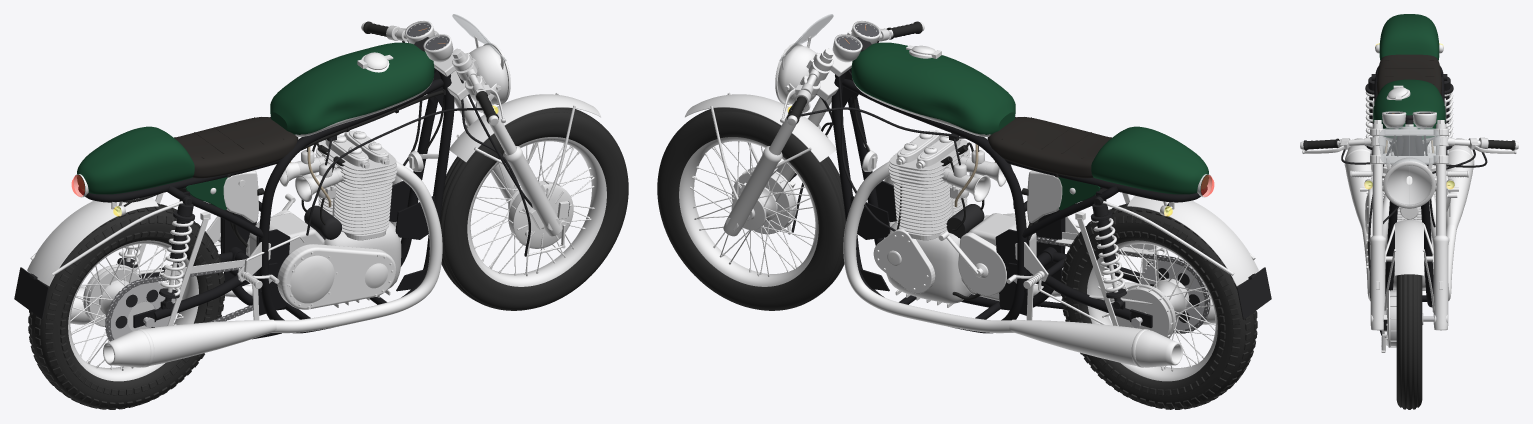
File: bike_cafe_racer.glb
3 views of the same model, side by side, from view 1: azimuth 30°, elevation 25°; view 2: azimuth 150°, elevation 25°; view 3: azimuth 270°, elevation 25° (orthographic). The views are drawn at different scales.
Parts seen in each view (by area): view 1: wheels__front_wheel__tyre, wheels__rear_wheel__tyre, frame_body__frame__tubes, frame_body__fuel_tank, transmission__primary_chaincase, frame_body__tail_cowl, powertrain__exhaust__megaphones, frame_body__seat, powertrain__exhaust__headers, wheels__front_wheel__rim, frame_body__rear_mudguard, powertrain__engine__cylinder_fins (+35 smaller); view 2: wheels__front_wheel__tyre, wheels__rear_wheel__tyre, frame_body__frame__tubes, frame_body__fuel_tank, frame_body__tail_cowl, powertrain__exhaust__megaphones, frame_body__seat, powertrain__exhaust__headers, wheels__front_wheel__rim, frame_body__rear_mudguard, powertrain__engine__cylinder_fins, powertrain__engine__timing_cover (+33 smaller); view 3: wheels__front_wheel__tyre, powertrain__exhaust__megaphones, frame_body__tail_cowl, frame_body__flyscreen, frame_body__fuel_tank, frame_body__frame__tubes, frame_body__seat, frame_body__front_mudguard, chassis__front_fork__right_slider, chassis__front_fork__left_slider, electrical__headlight__reflector, electrical__headlight__lens (+27 smaller).
Boxes of the visible parts, x1,y1,x2,y2 form: wheels__front_wheel__tyre: (440, 107, 628, 310); wheels__rear_wheel__tyre: (28, 203, 224, 409); frame_body__frame__tubes: (78, 68, 454, 333); frame_body__fuel_tank: (270, 42, 434, 136); transmission__primary_chaincase: (277, 244, 396, 309); frame_body__tail_cowl: (77, 126, 194, 194); powertrain__exhaust__megaphones: (70, 282, 276, 367); frame_body__seat: (174, 117, 298, 178); powertrain__exhaust__headers: (225, 161, 442, 333); wheels__front_wheel__rim: (467, 137, 606, 286); frame_body__rear_mudguard: (27, 197, 158, 286); powertrain__engine__cylinder_fins: (318, 172, 392, 234); wheels__front_wheel__tyre: (657, 107, 845, 310); wheels__rear_wheel__tyre: (1061, 203, 1257, 409); frame_body__frame__tubes: (831, 68, 1207, 333); frame_body__fuel_tank: (851, 42, 1015, 136); frame_body__tail_cowl: (1091, 126, 1208, 194); powertrain__exhaust__megaphones: (1009, 282, 1215, 367); frame_body__seat: (987, 117, 1111, 178); powertrain__exhaust__headers: (843, 161, 1061, 333); wheels__front_wheel__rim: (679, 137, 818, 286); frame_body__rear_mudguard: (1127, 195, 1258, 286); powertrain__engine__cylinder_fins: (893, 172, 967, 234); powertrain__engine__timing_cover: (873, 228, 935, 293); wheels__front_wheel__tyre: (1396, 274, 1422, 409); powertrain__exhaust__megaphones: (1344, 138, 1474, 229); frame_body__tail_cowl: (1379, 14, 1439, 60); frame_body__flyscreen: (1378, 126, 1440, 166); frame_body__fuel_tank: (1373, 79, 1445, 143); frame_body__frame__tubes: (1373, 66, 1445, 307); frame_body__seat: (1377, 54, 1441, 95); frame_body__front_mudguard: (1395, 220, 1423, 275); chassis__front_fork__right_slider: (1433, 235, 1449, 330); chassis__front_fork__left_slider: (1369, 235, 1385, 330); electrical__headlight__reflector: (1387, 166, 1431, 204); electrical__headlight__lens: (1387, 166, 1431, 204).
Size of the model in its own units: 210 by 101 by 79.77.
